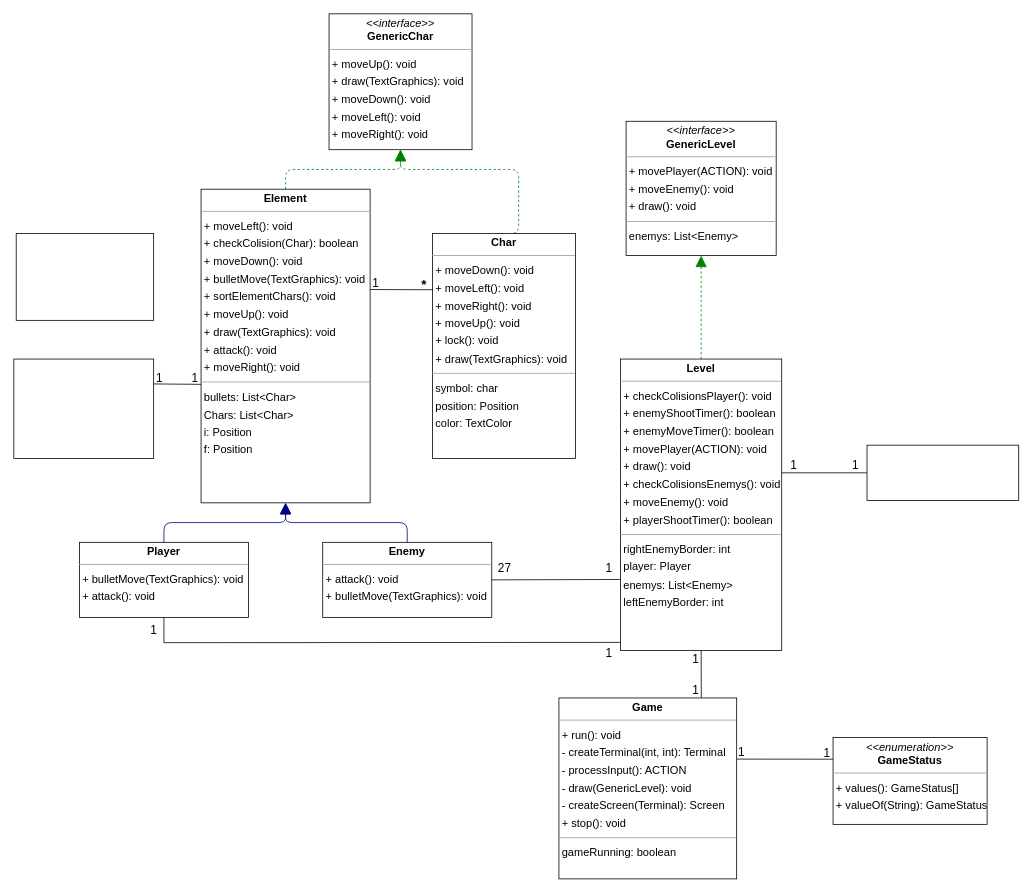
This 1033x893 diagram has some shape labels left out. The centre of each missing label's shape, as x and y in pixels:
"<<enumeration>> ACTION + values(): ACTION[] + valueOf(String): ACTION" goes at point (84, 276).
"LevelLoader //class for loading .txt files" goes at point (942, 472).
"Position + equals(Object): boolean y: int x: int" goes at point (83, 408).
